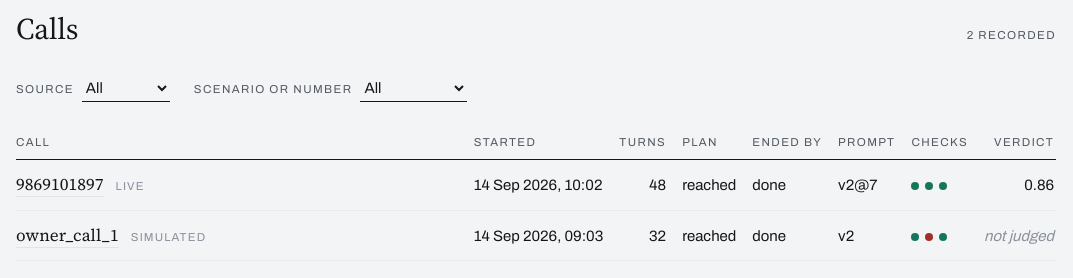
Scenario: the Calls screen › filters by source without going back to the server
Select "Live" in the dropdown labelled "Source" at (126, 88), box [82,75,170,102]
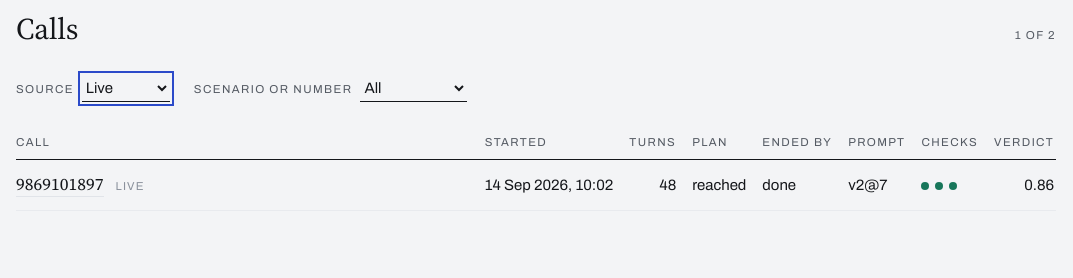
expect the number of rows is 2: met, box [16,134,1056,160]; [16,160,1056,210]
expect the text "simulated" is gone: met
